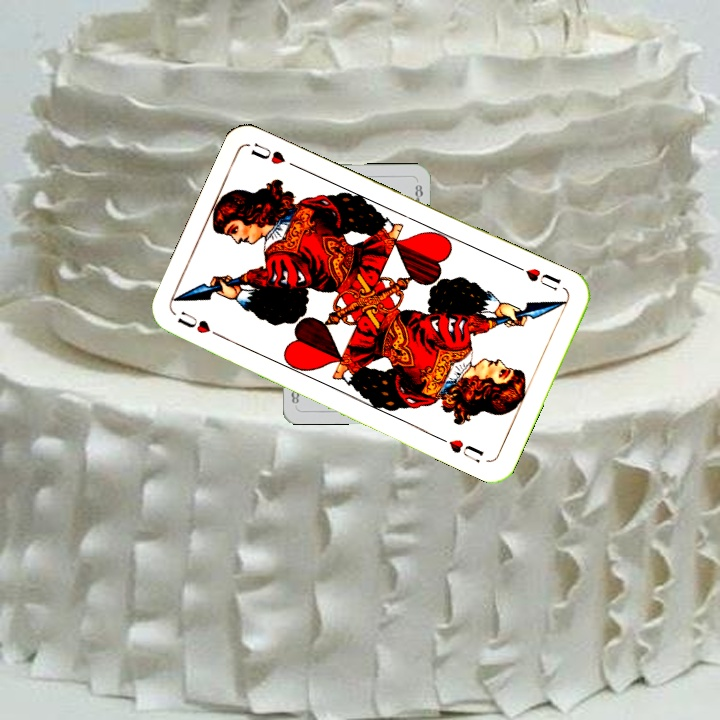HU: (173, 307, 227, 342), (521, 264, 564, 294)
